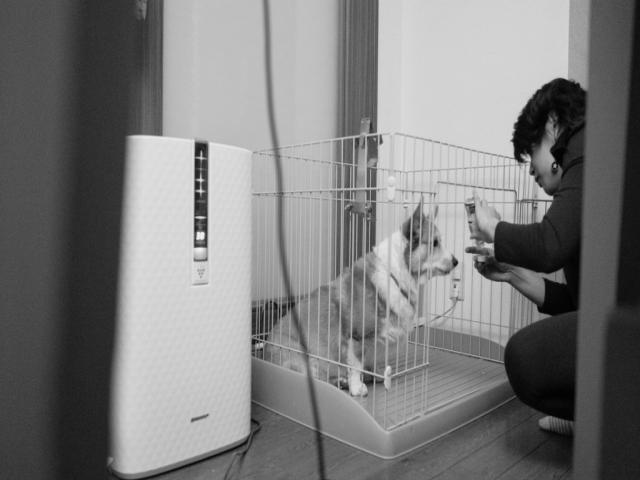Dog: (262, 193, 458, 398)
